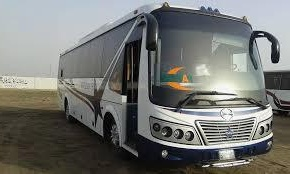bus: (57, 6, 279, 163)
